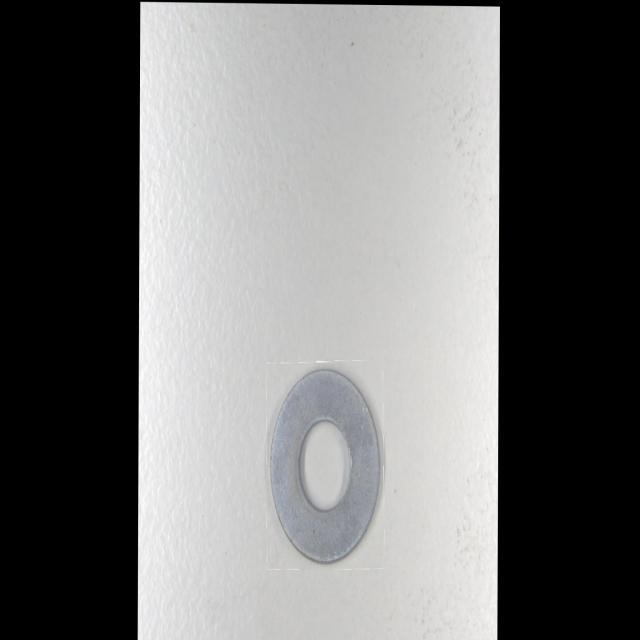washer: (267, 362, 383, 569)
